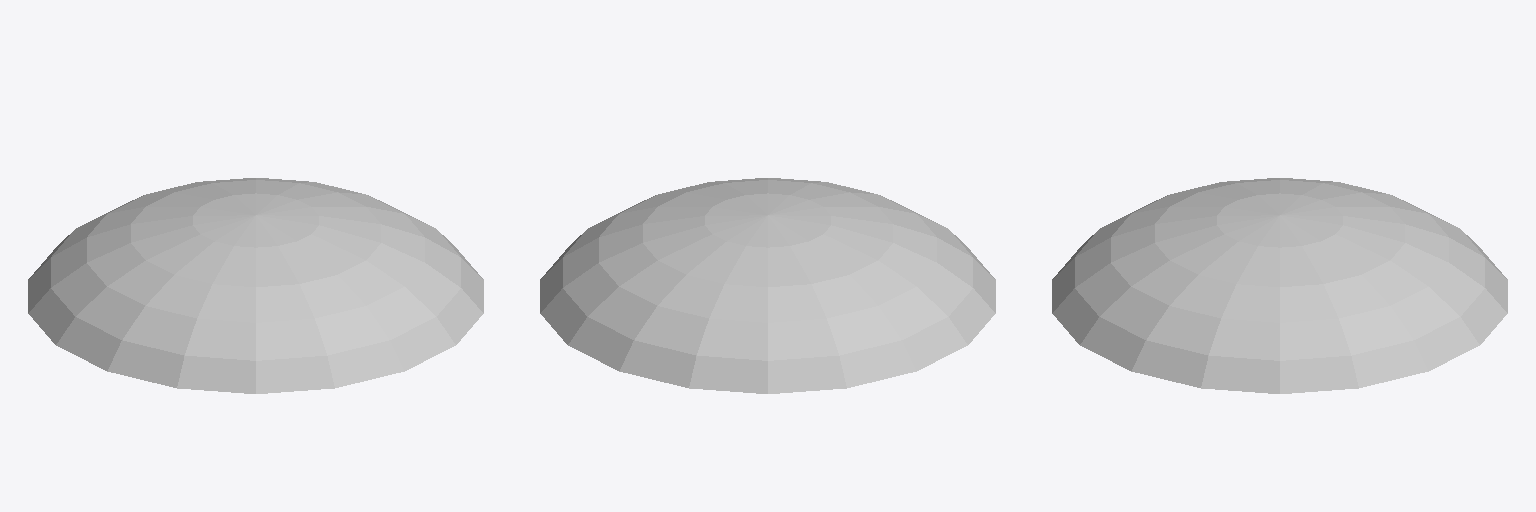
File: bush_obj.obj
3 views of the same model, side by side, from view 1: azimuth 30°, elevation 25°; view 2: azimuth 150°, elevation 25°; view 3: azimuth 270°, elevation 25° (orthographic).
Visible parts, largest first — view 1: Cylinder008; view 2: Cylinder008; view 3: Cylinder008.
Part boxes in pixels (x1,y1,x2,y2): Cylinder008: (28,178,483,393); Cylinder008: (540,178,995,393); Cylinder008: (1052,178,1507,393).
Size of the model in its own units: 16.52 by 3.21 by 16.27.